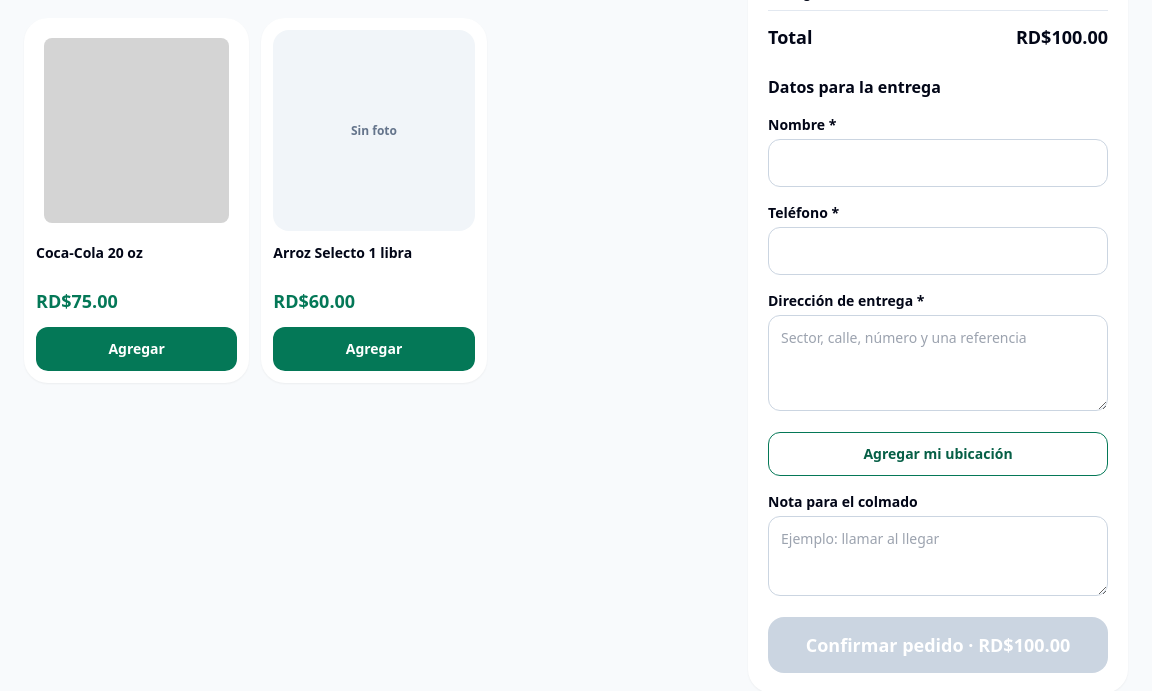
Scenario: PublicStorefrontPage › sends a complete order and shows its receipt
(page scrolled)
Click the button "Agregar" below "RD$75.00" at (137, 349), box [36,327,237,371]
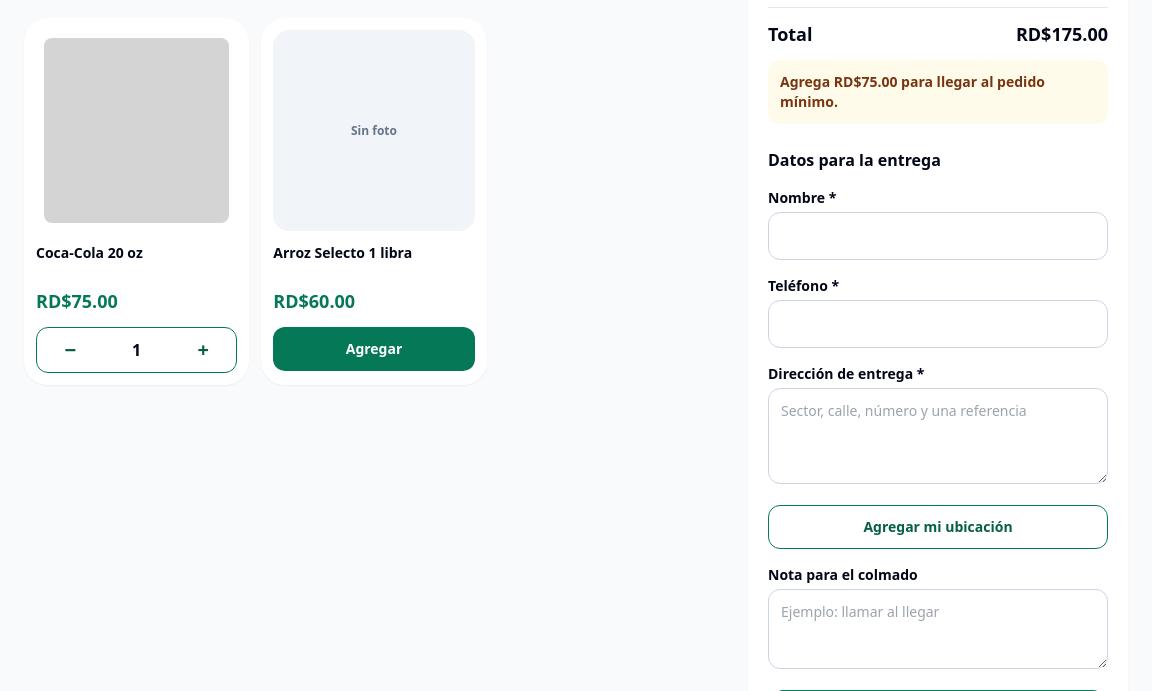
Click the button named "Agregar Coca-Cola 20 oz" at (203, 350), box [170,328,236,372]
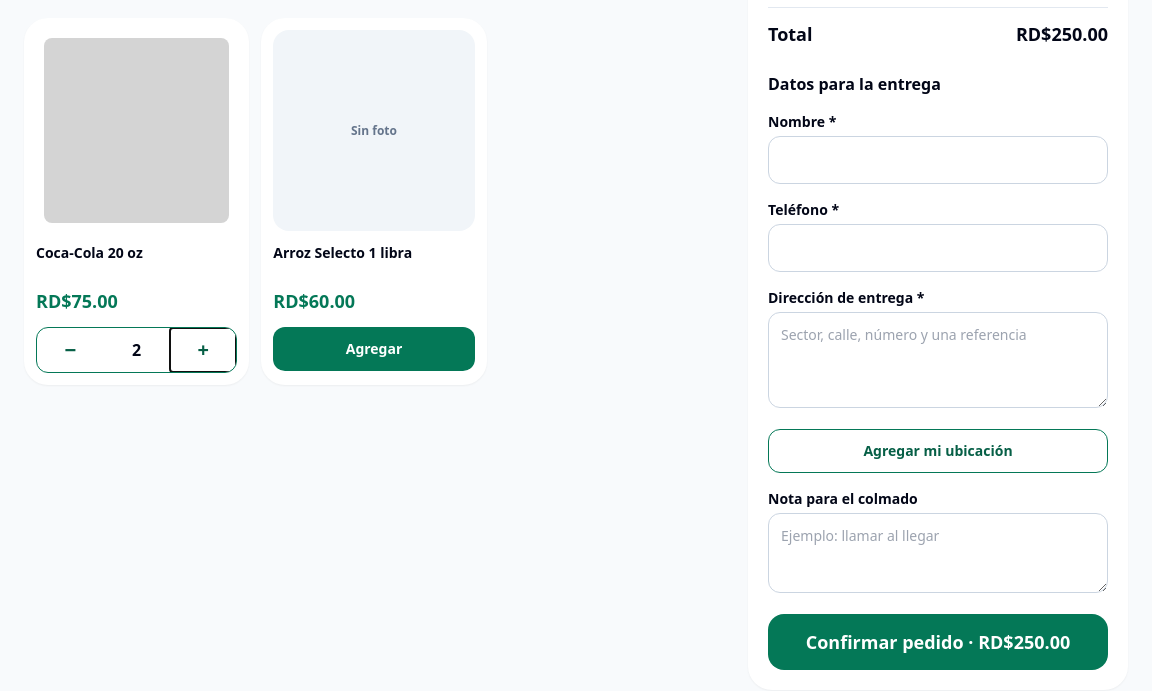
Type "Ana Pérez" into the field labelled "Nombre *" at (938, 160), box [768,136,1108,184]
Type "809-555-1234" into the field labelled "Teléfono *" at (938, 248), box [768,224,1108,272]
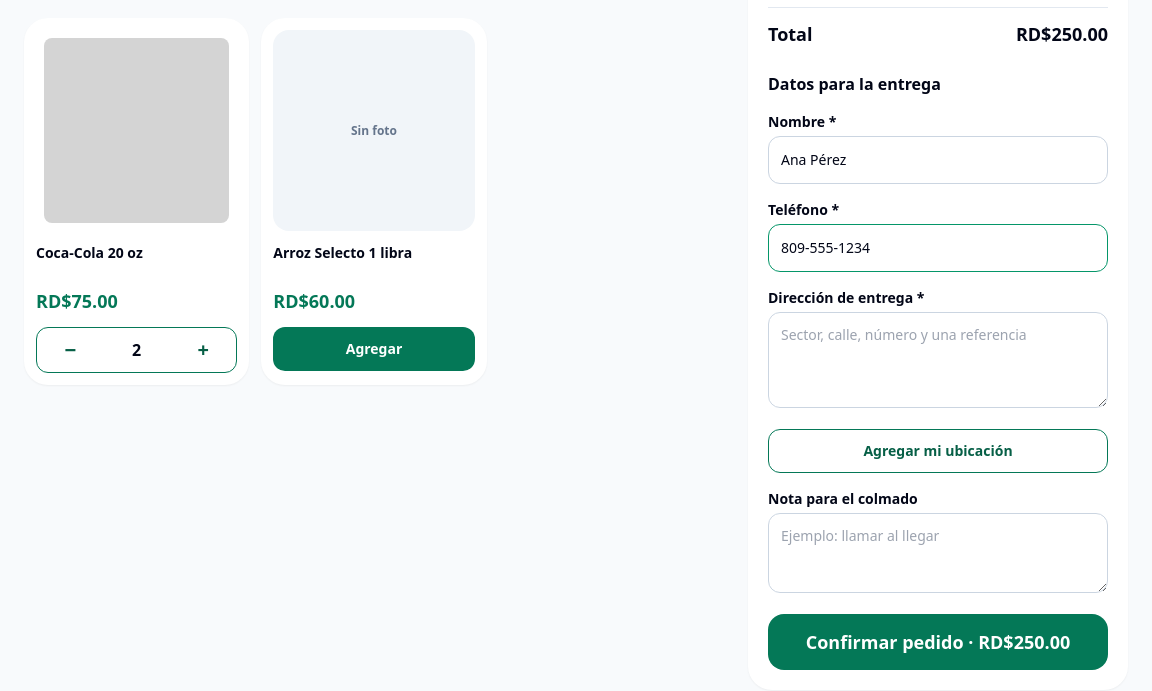
Type "Macao, cerca de la iglesia" into the text box labelled "Dirección de entrega *" at (938, 360), box [768,312,1108,408]
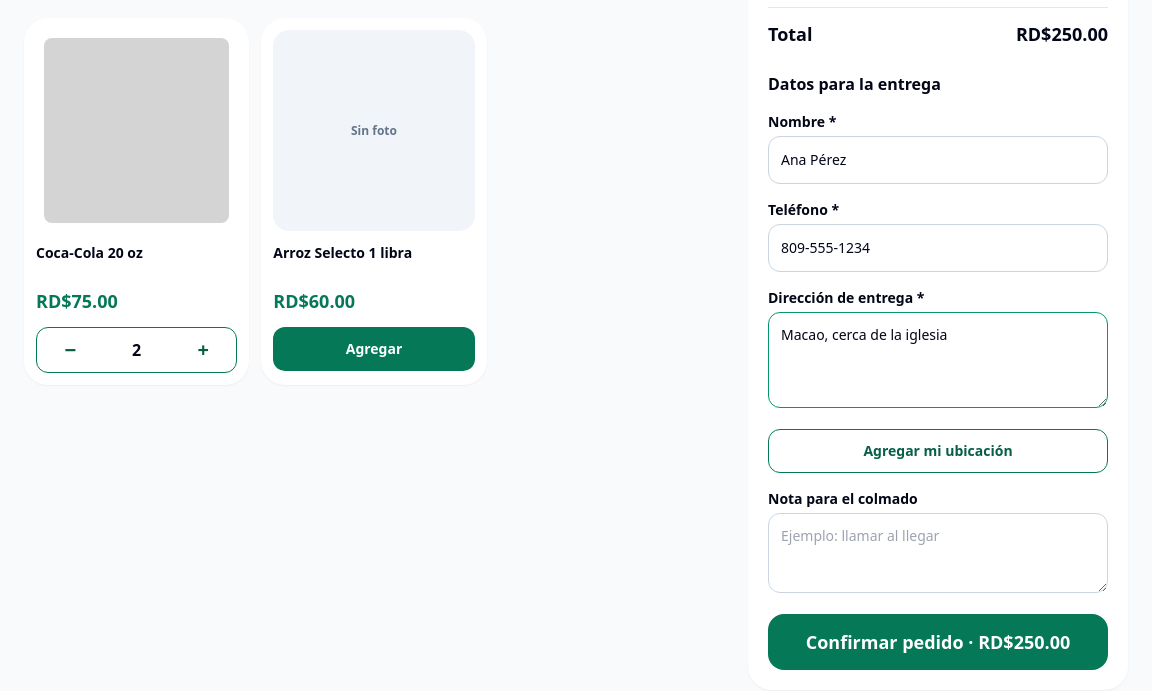
Type "Llamar al llegar" into the text box labelled "Nota para el colmado" at (938, 553), box [768,513,1108,593]
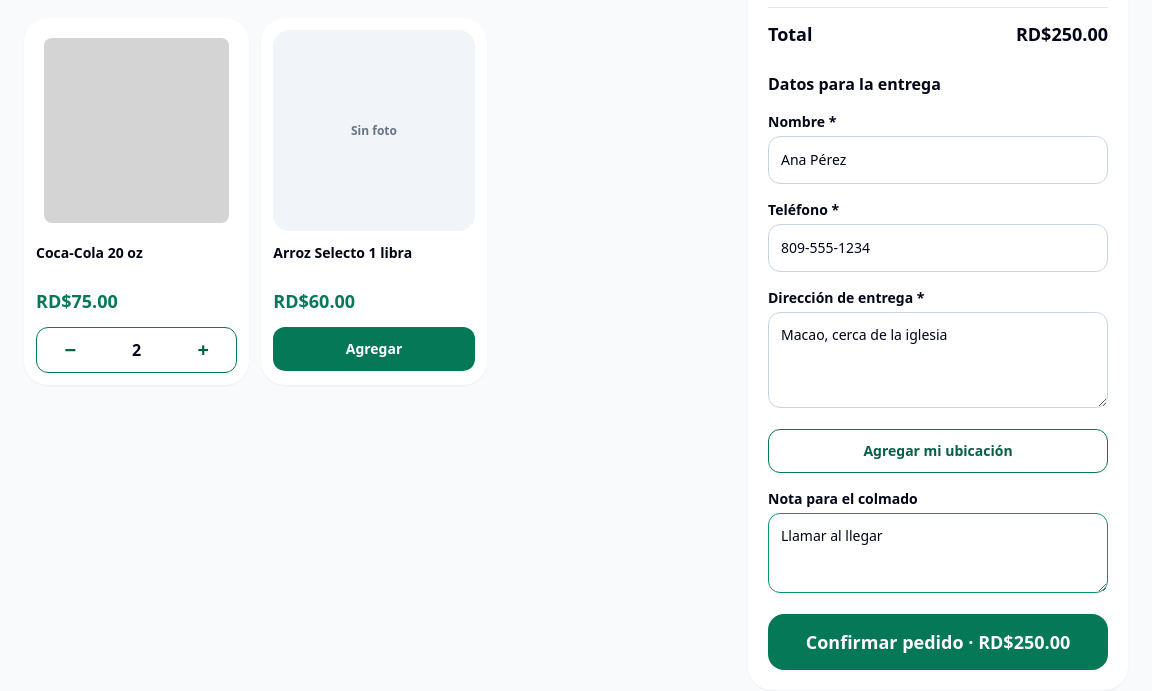
Click the button "Confirmar pedido · RD$250.00" at (938, 642), box [768,614,1108,670]
(page scrolled)
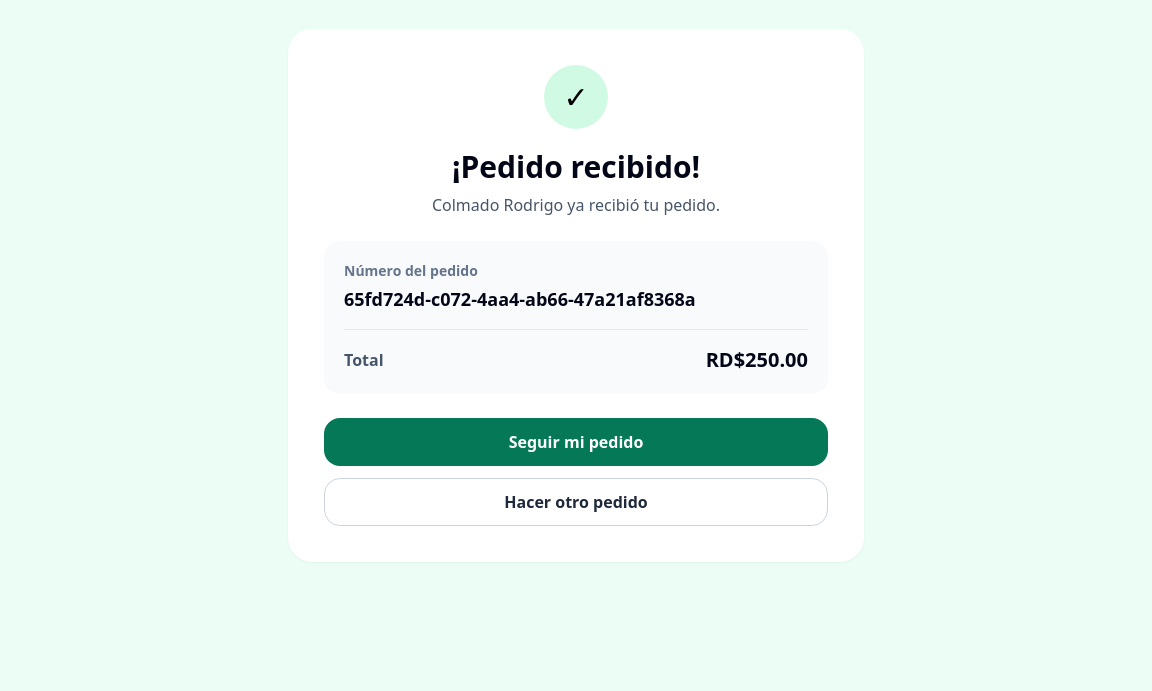
Check: the heading "¡Pedido recibido!" is shown, box [452,146,700,187]
Check: the text "65fd724d-c072-4aa4-ab66-47a21af8368a" is shown, box [344,287,696,311]
